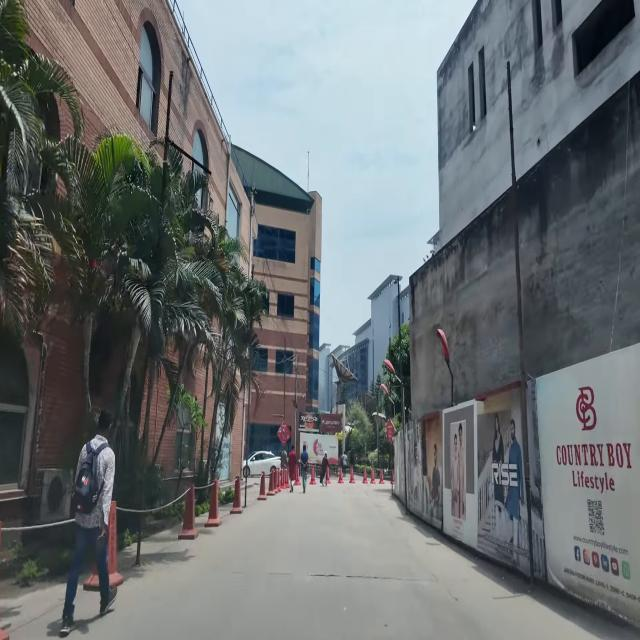person: (300, 444, 309, 494)
